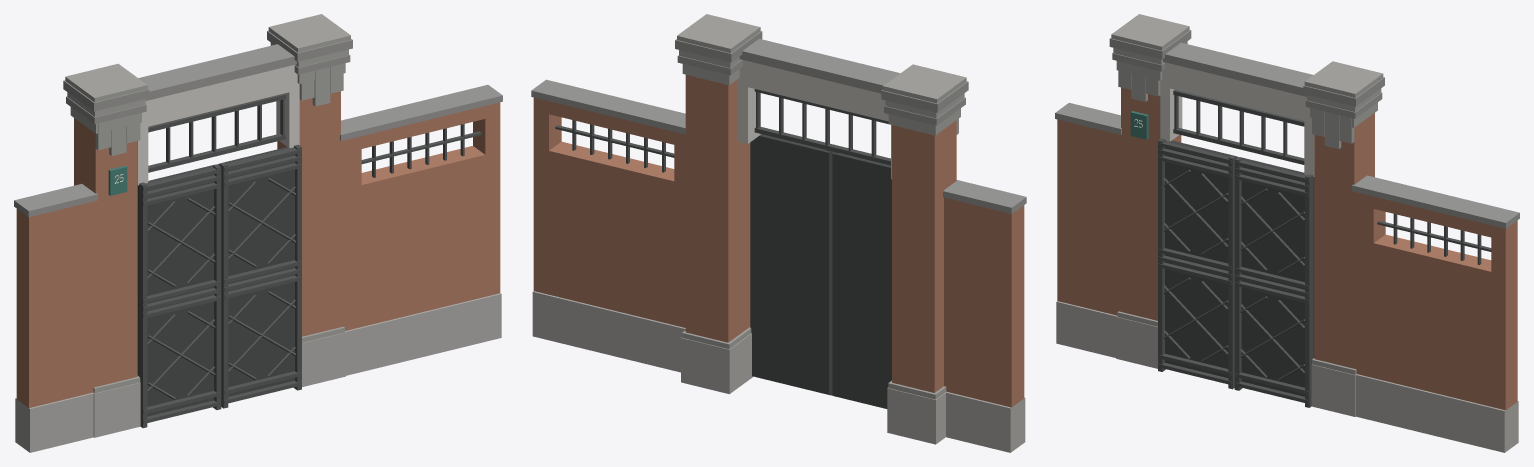
File: jingan-villa-no25-lod.glb
3 renders of one model, left to right at view 1: azimuth 30°, elevation 25°; view 2: azimuth 150°, elevation 25°; view 3: azimuth 330°, elevation 25°, orthographic. The views are drawn at different scales.
Parts seen in each view (by area): view 1: 静安别墅25号院门与弄面院墙; view 2: 静安别墅25号院门与弄面院墙; view 3: 静安别墅25号院门与弄面院墙.
Part boxes in pixels (box(x1,y1,x2,y2)): 静安别墅25号院门与弄面院墙: box(14, 14, 502, 452); 静安别墅25号院门与弄面院墙: box(531, 14, 1026, 452); 静安别墅25号院门与弄面院墙: box(1055, 14, 1519, 452).
Bounding box in the file's own units: 4.4 × 3.04 × 0.492.
